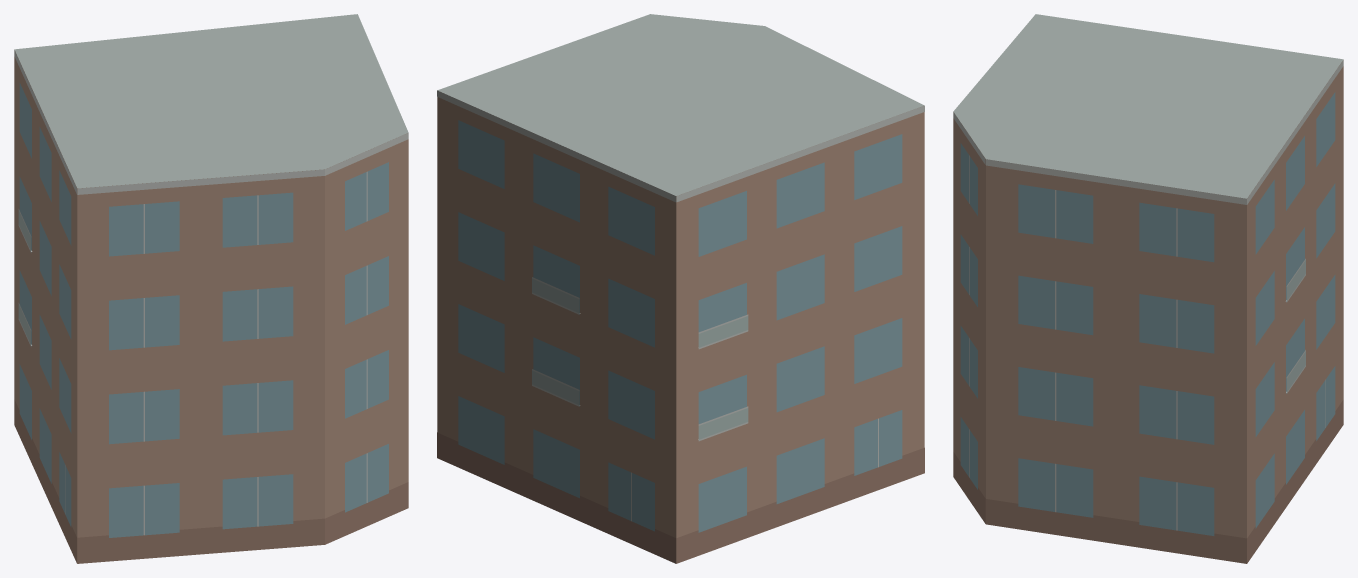
The model's file is survey-upis-32852684.glb.
3 renders of one model, left to right at view 1: azimuth 30°, elevation 25°; view 2: azimuth 150°, elevation 25°; view 3: azimuth 270°, elevation 25°, orthographic. The views are drawn at different scales.
Parts seen in each view (by area): view 1: survey-upis-32852684.tmp; view 2: survey-upis-32852684.tmp; view 3: survey-upis-32852684.tmp.
Part boxes in pixels (x1,y1,x2,y2): survey-upis-32852684.tmp: (14,14,408,563); survey-upis-32852684.tmp: (437,14,924,563); survey-upis-32852684.tmp: (953,14,1343,563).
Size of the model in its own units: 15.25 by 14.05 by 13.62.
